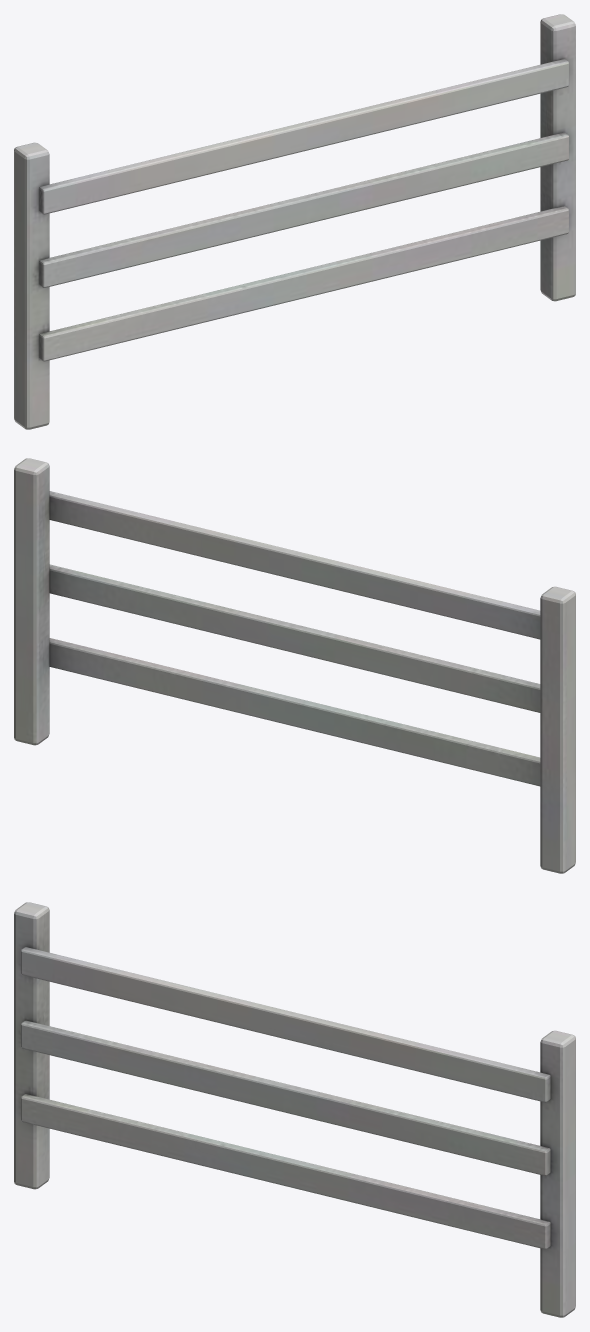
Rendered from fence_paddock.glb.
3 views of the same model, one above another, from view 1: azimuth 30°, elevation 25°; view 2: azimuth 150°, elevation 25°; view 3: azimuth 330°, elevation 25° (orthographic).
Visible parts, largest first — view 1: fence_paddock; view 2: fence_paddock; view 3: fence_paddock.
Part boxes in pixels (left/top/right/bottom): fence_paddock: left=14, top=14, right=575, bottom=429; fence_paddock: left=14, top=458, right=575, bottom=873; fence_paddock: left=14, top=902, right=575, bottom=1317.
Size of the model in its own units: 3.14 by 1.5 by 0.185.
1 material, 1 textured.
